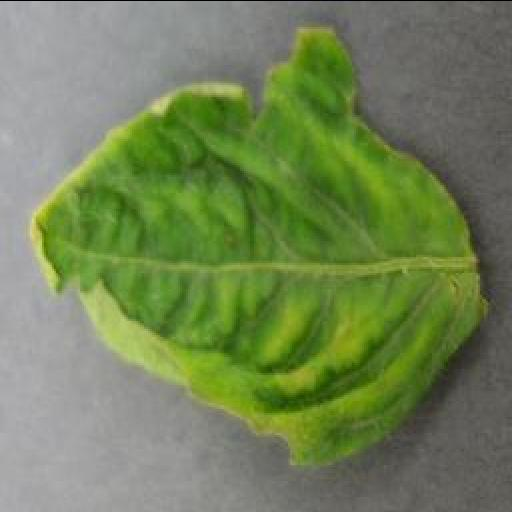disease_tomato: (26, 26, 488, 474)
